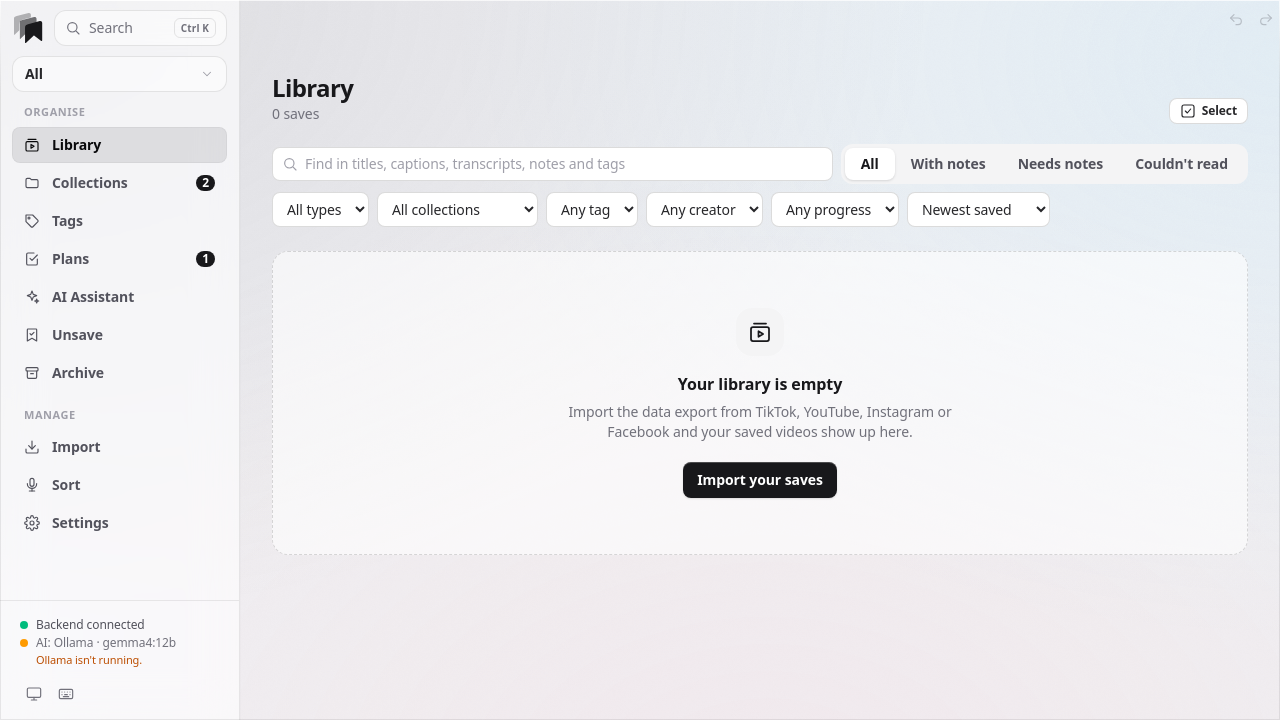
Test case: the sidebar has two sections, no Home, and the platform picker narrows to one platform
Expected: the links read "Import", "Sort", "Settings", in this order, [24, 437, 101, 456]; [24, 475, 80, 494]; [24, 513, 109, 532]
Expected: the text "Ollama isn't running." is shown, [36, 652, 142, 667]
Click the button with aria-label "Platform: All. Change" at (120, 74), box [12, 56, 227, 92]
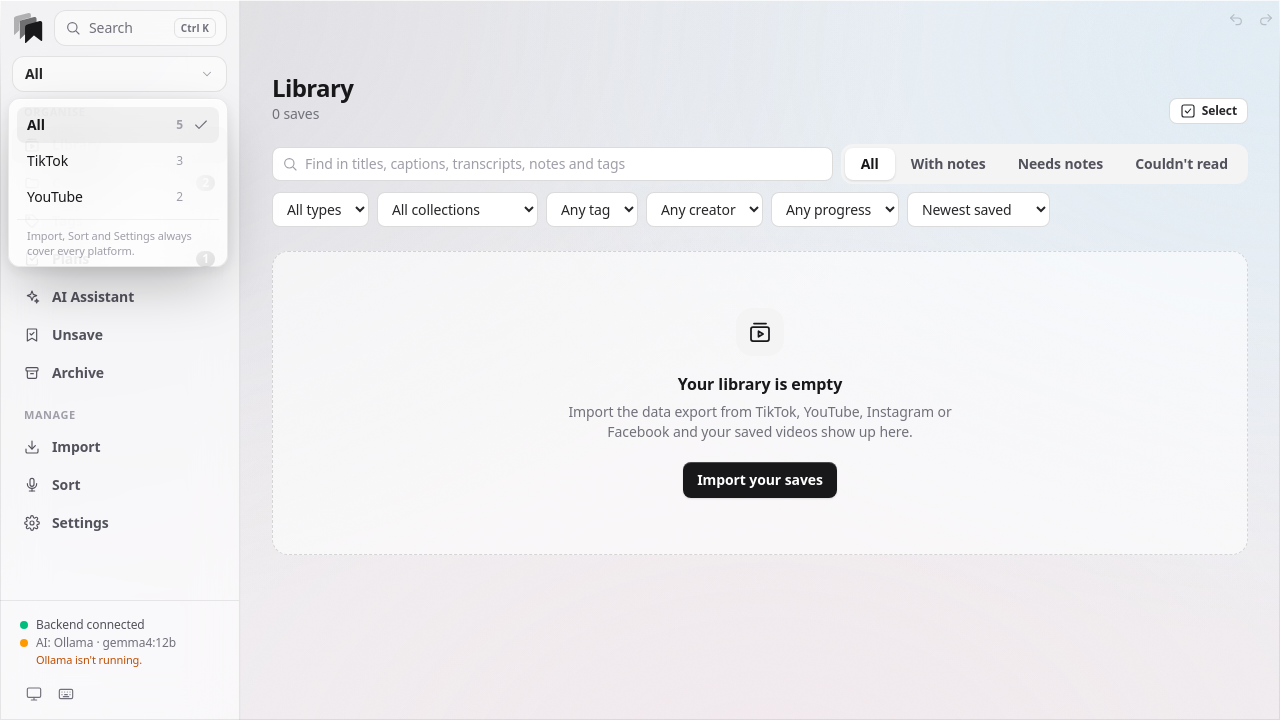
Click the text "YouTube" at (55, 196), box [27, 187, 83, 206]
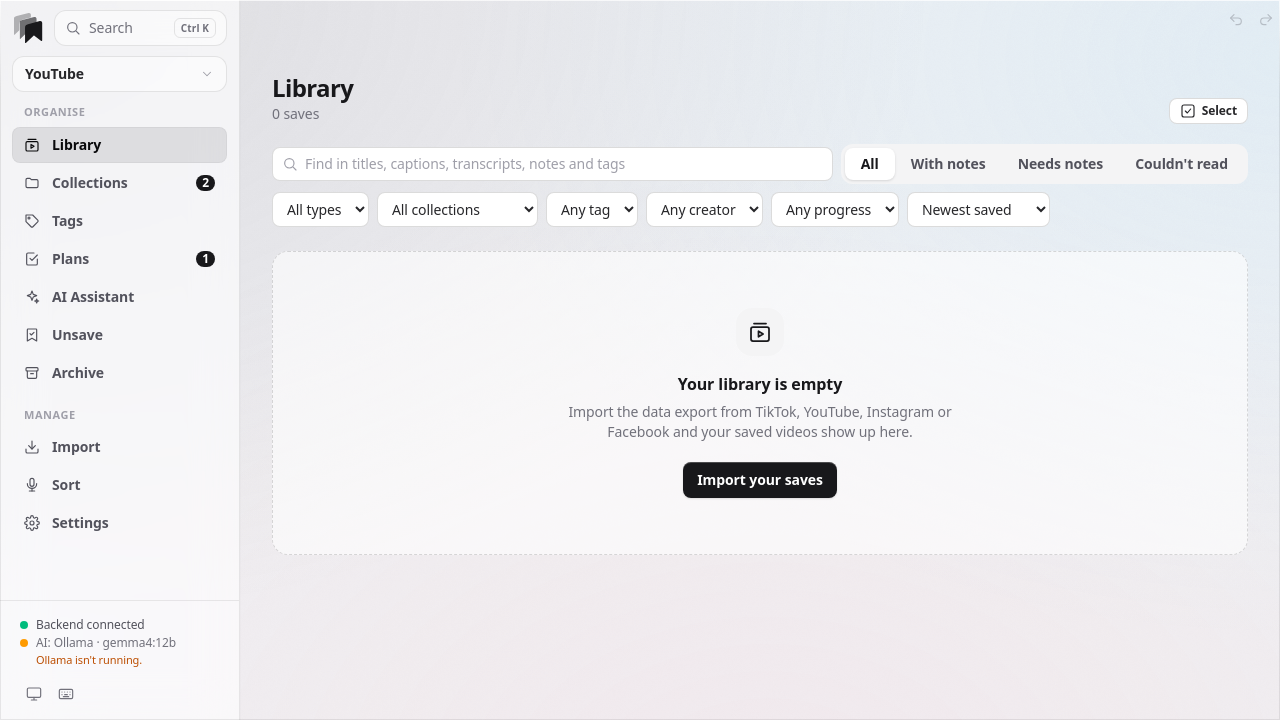
Expected: the button with aria-label "Platform: YouTube. Change" is shown, [12, 56, 227, 92]
